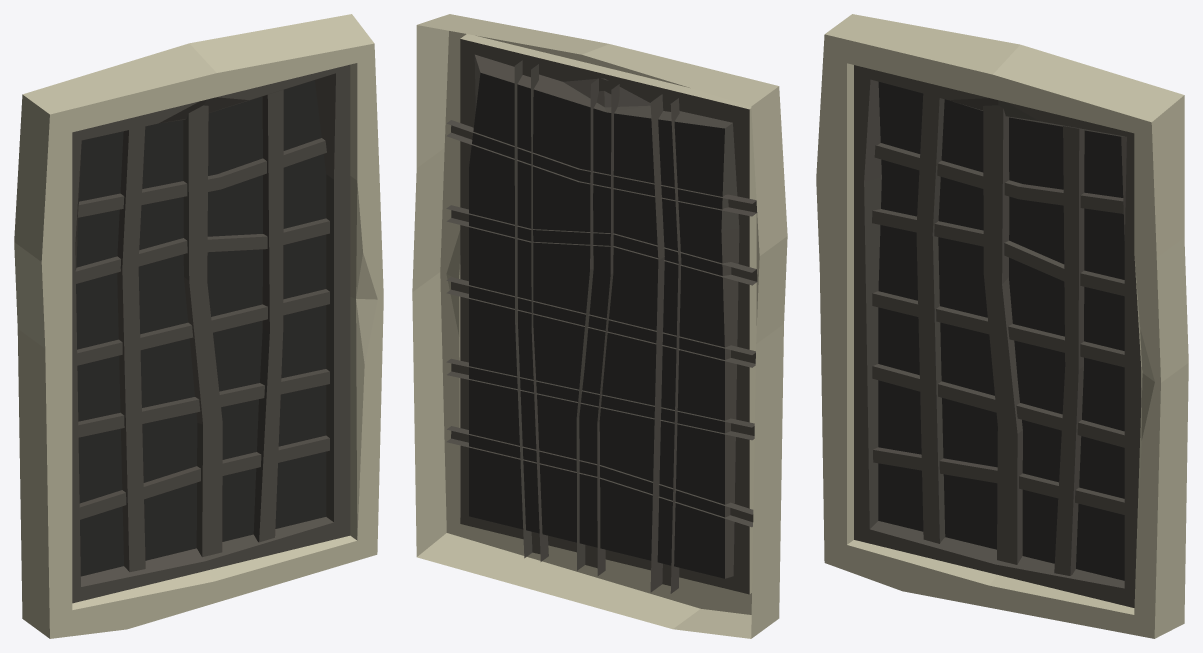
Rendered from Window_1.fbx.
3 views of the same model, side by side, from view 1: azimuth 30°, elevation 25°; view 2: azimuth 150°, elevation 25°; view 3: azimuth 330°, elevation 25° (orthographic).
Visible parts, largest first — view 1: Window_1; view 2: Window_1; view 3: Window_1.
Boxes of the visible parts, x1,y1,x2,y2 form: Window_1: (14,14,383,638); Window_1: (412,14,787,638); Window_1: (816,14,1188,638).
Bounding box in the file's own units: 132 × 201 × 18.45.
